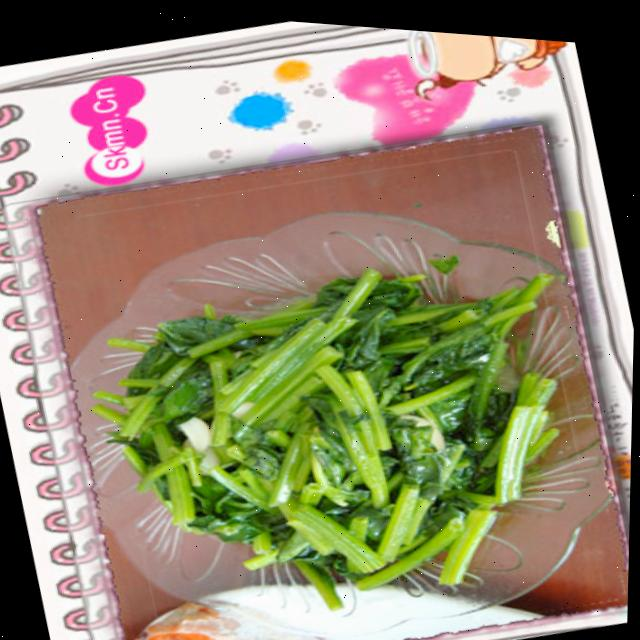蔬菜料理: (29, 172, 633, 640)
